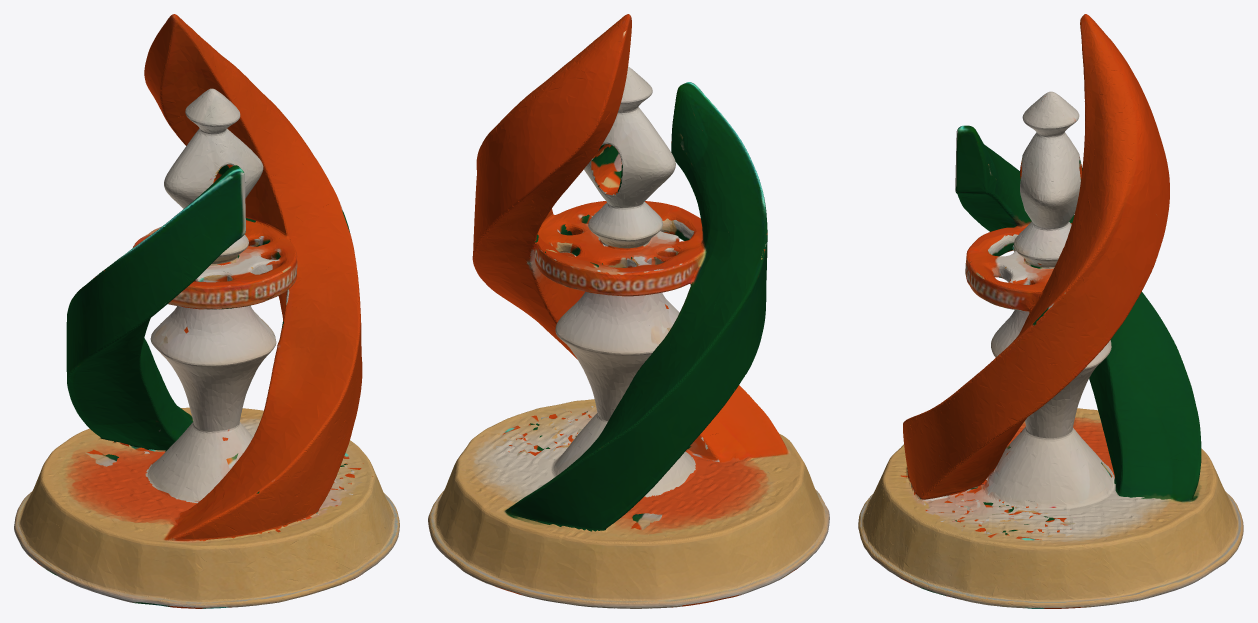
Rendered from rond-point-elf.glb.
The picture shows the model from 3 angles, left to right: view 1: azimuth 30°, elevation 25°; view 2: azimuth 150°, elevation 25°; view 3: azimuth 270°, elevation 25°; orthographic projection. The views are drawn at different scales.
Parts seen in each view (by area): view 1: world; view 2: world; view 3: world.
Boxes of the visible parts, <box> form: world: <box>14,14,399,608</box>; world: <box>428,14,829,608</box>; world: <box>858,14,1243,608</box>.
Bounding box in the file's own units: 1.36 × 1.99 × 1.37.
1 material, 1 textured.
